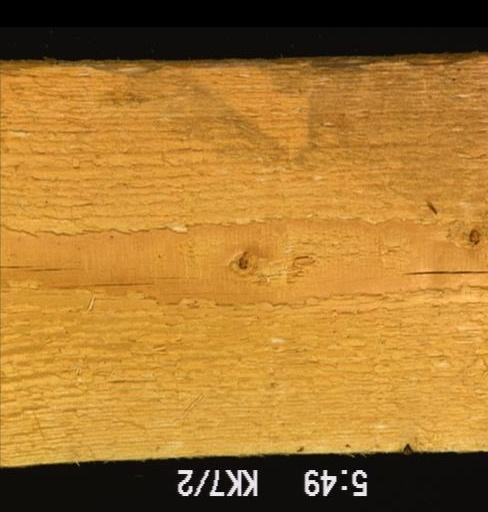dry_knot: (465, 225, 483, 250)
split: (85, 279, 156, 290), (397, 268, 486, 276), (0, 265, 66, 273)
wave: (0, 57, 486, 71)
